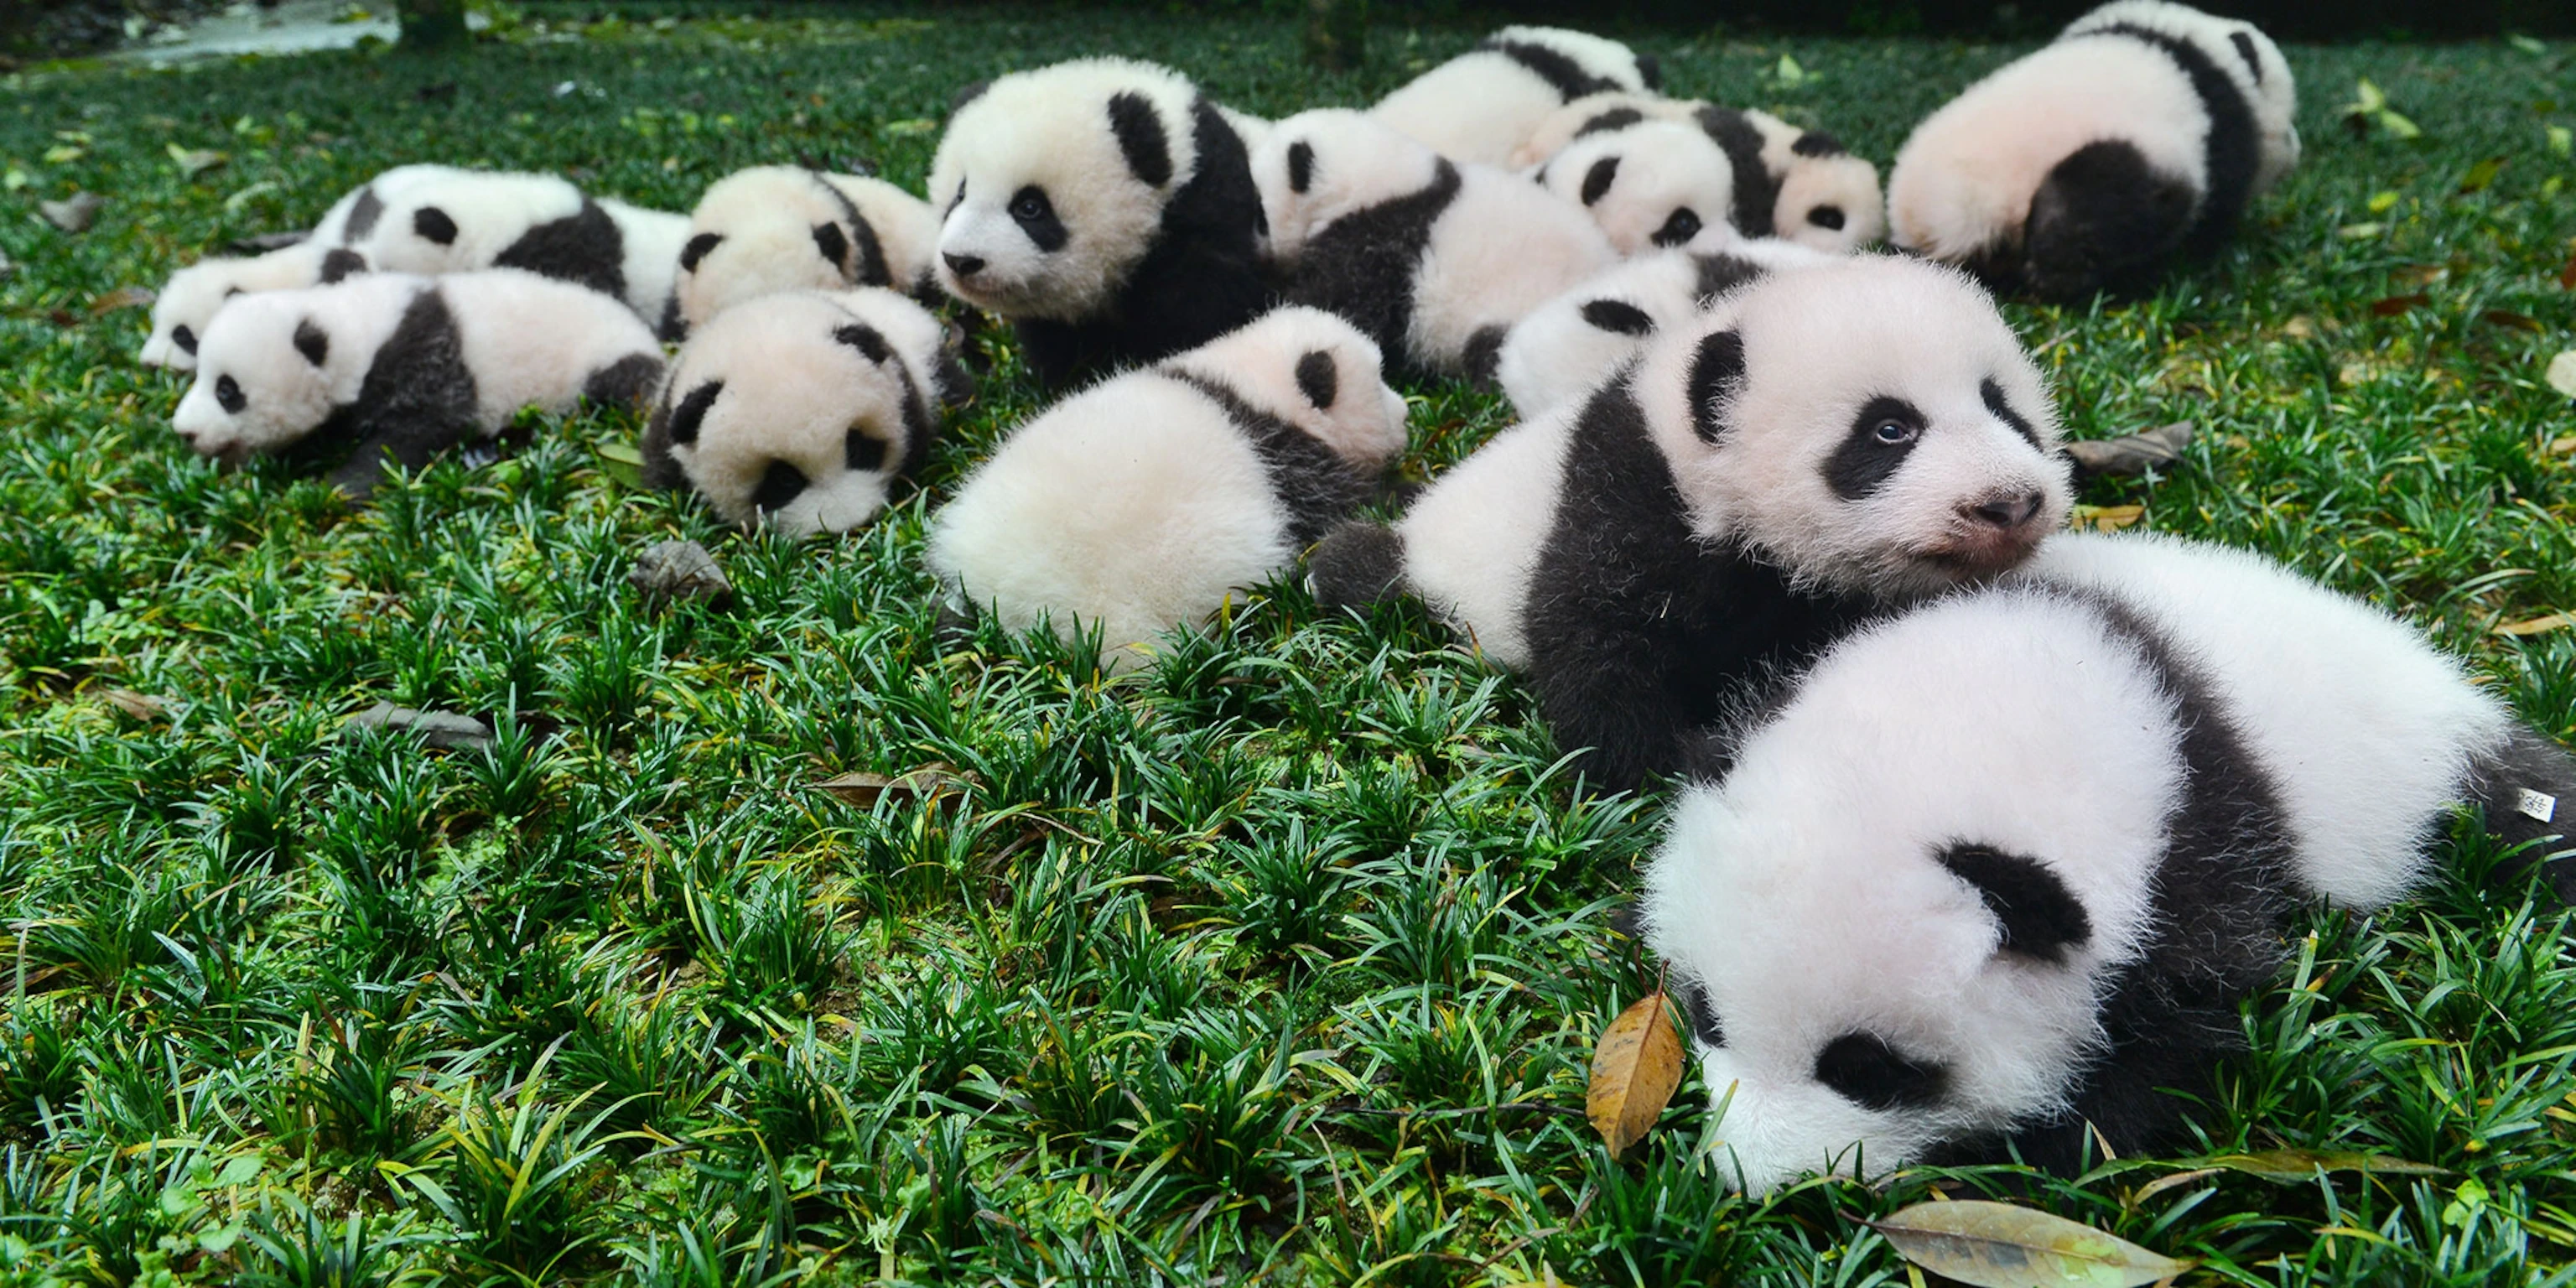panda: (1275, 260, 2085, 803)
